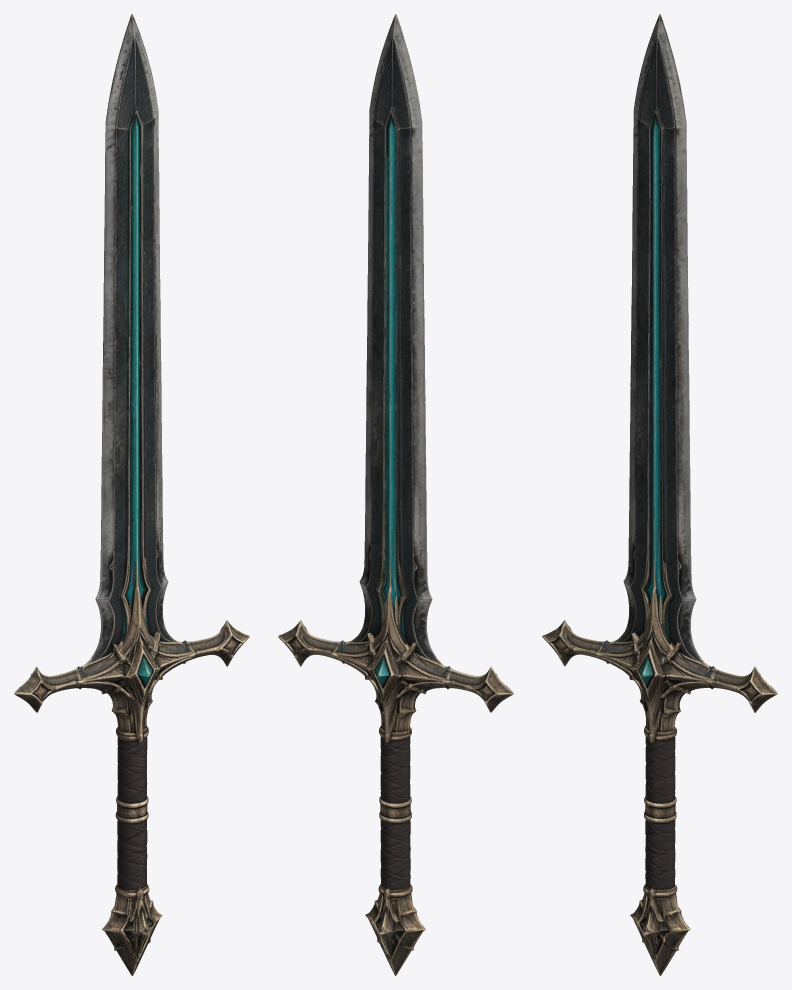
The model's file is TempoTyrantSword.glb.
The picture shows the model from 3 angles, left to right: view 1: azimuth 30°, elevation 25°; view 2: azimuth 150°, elevation 25°; view 3: azimuth 330°, elevation 25°; orthographic projection.
Bounding box in the file's own units: 0.4866 × 1.9 × 0.1264.
Materials: 1 (1 with a texture image).
